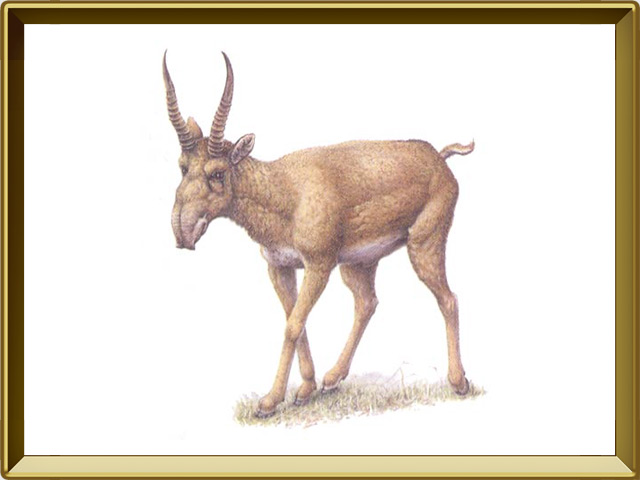saiga: (162, 49, 484, 410)
